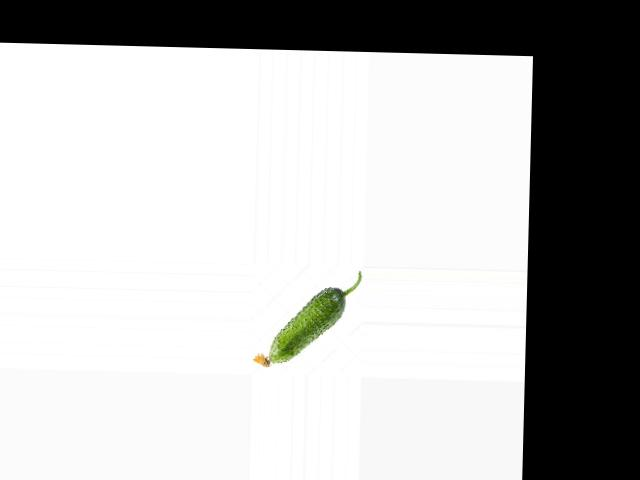cucumber: (252, 268, 361, 369)
